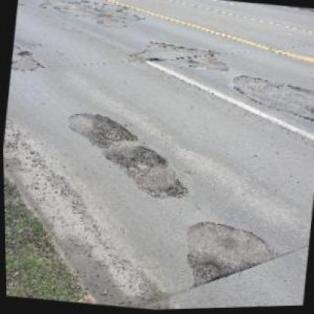Hueco: (106, 143, 168, 175), (89, 111, 138, 148), (186, 257, 226, 289)
